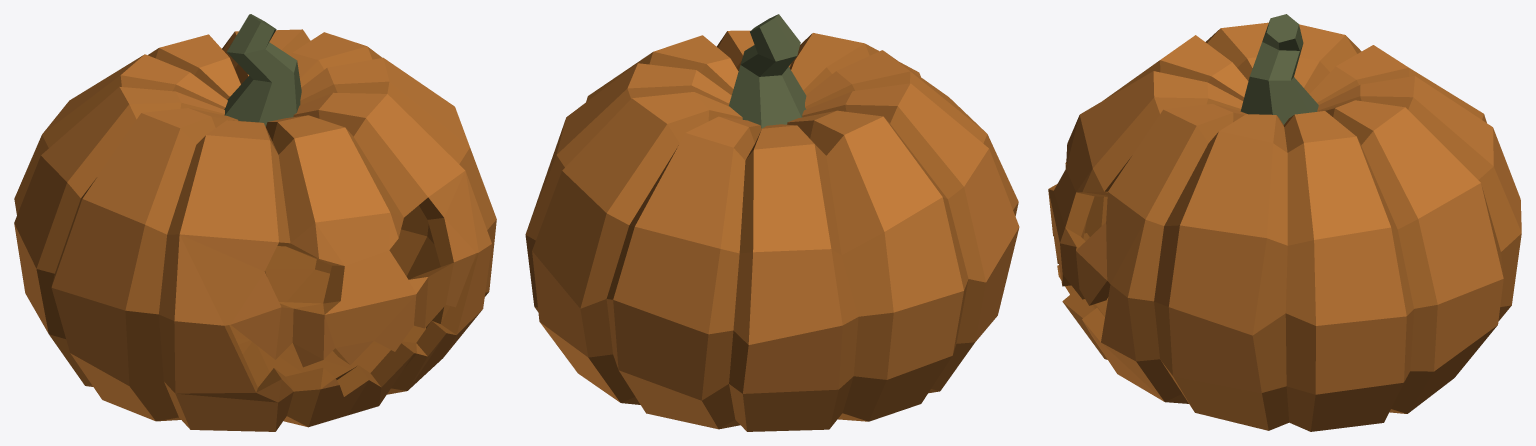
The model's file is Pumpkin_03.fbx.
3 renders of one model, left to right at view 1: azimuth 30°, elevation 25°; view 2: azimuth 150°, elevation 25°; view 3: azimuth 270°, elevation 25°, orthographic. The views are drawn at different scales.
Parts seen in each view (by area): view 1: Pumpkin_03; view 2: Pumpkin_03; view 3: Pumpkin_03.
Boxes of the visible parts, x1,y1,x2,y2 form: Pumpkin_03: (14, 14, 496, 431); Pumpkin_03: (525, 14, 1019, 431); Pumpkin_03: (1048, 14, 1521, 431).
Size of the model in its own units: 0.4788 by 0.4014 by 0.4745.
